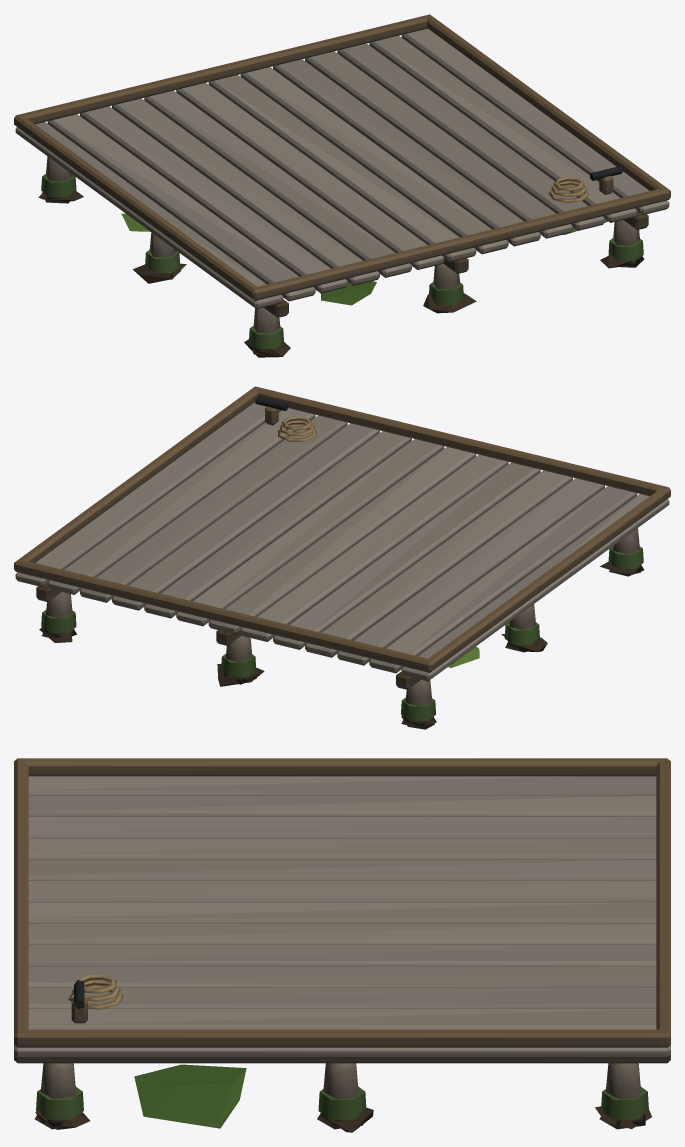
The model's file is deck-platform-tile.glb.
The picture shows the model from 3 angles, top to bottom: view 1: azimuth 30°, elevation 25°; view 2: azimuth 150°, elevation 25°; view 3: azimuth 270°, elevation 25°; orthographic projection. The views are drawn at different scales.
Visible parts, largest first — view 1: deck_platform_tile; view 2: deck_platform_tile; view 3: deck_platform_tile.
Boxes of the visible parts, x1=… form: deck_platform_tile: x1=14, y1=14, x2=670, y2=357; deck_platform_tile: x1=14, y1=386, x2=670, y2=729; deck_platform_tile: x1=14, y1=758, x2=670, y2=1132.
Bounding box in the file's own units: 4.12 × 0.8585 × 4.
